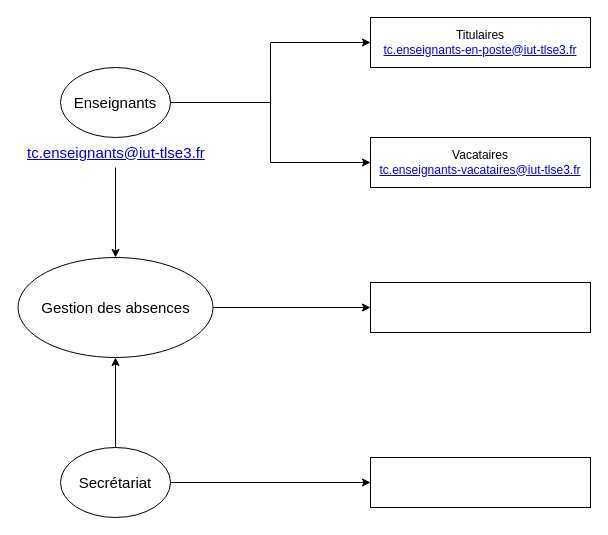
The diagram is 608 pixels wide and 535 high, and some of its shapes have lost their labels. Each missing label, with the centre of its shape:
"Boîte partagée tc.absences@iut-tlse3.fr" goes at [480,307].
"Boîte partagée tc.secretariat@iut-tlse3.fr" goes at [480,482].
